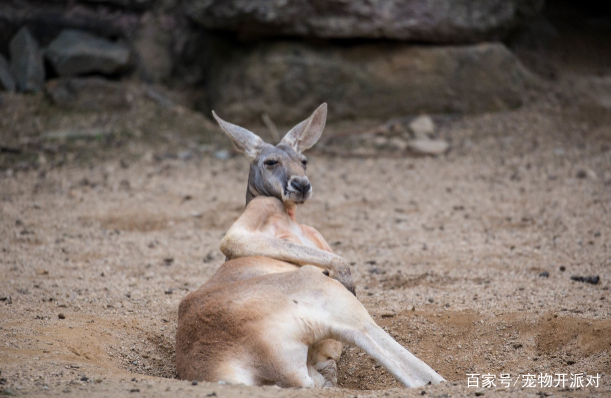kangaroo: (170, 102, 452, 390)
